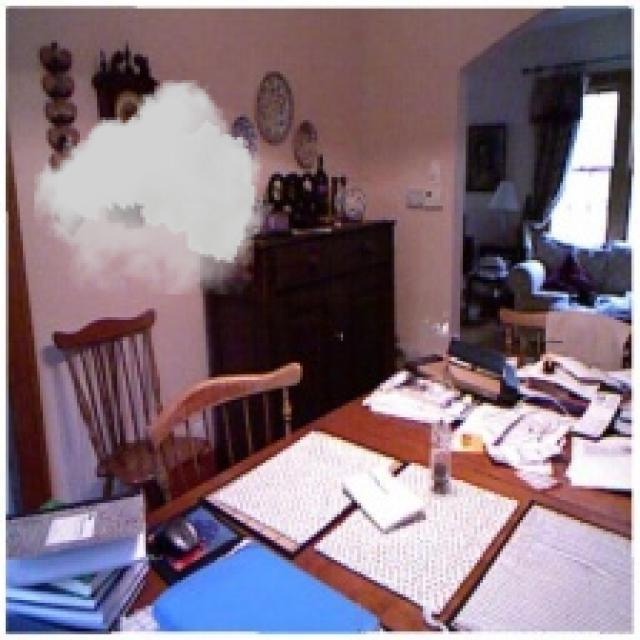Smoke: (34, 80, 266, 294)
